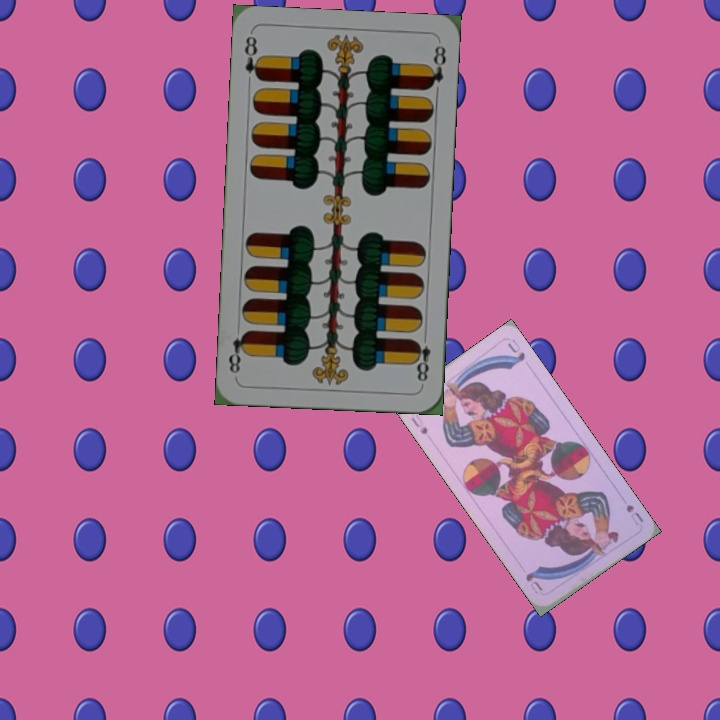E8: (409, 329, 433, 388), (240, 32, 265, 84)
SU: (622, 501, 646, 528), (407, 413, 430, 437)
